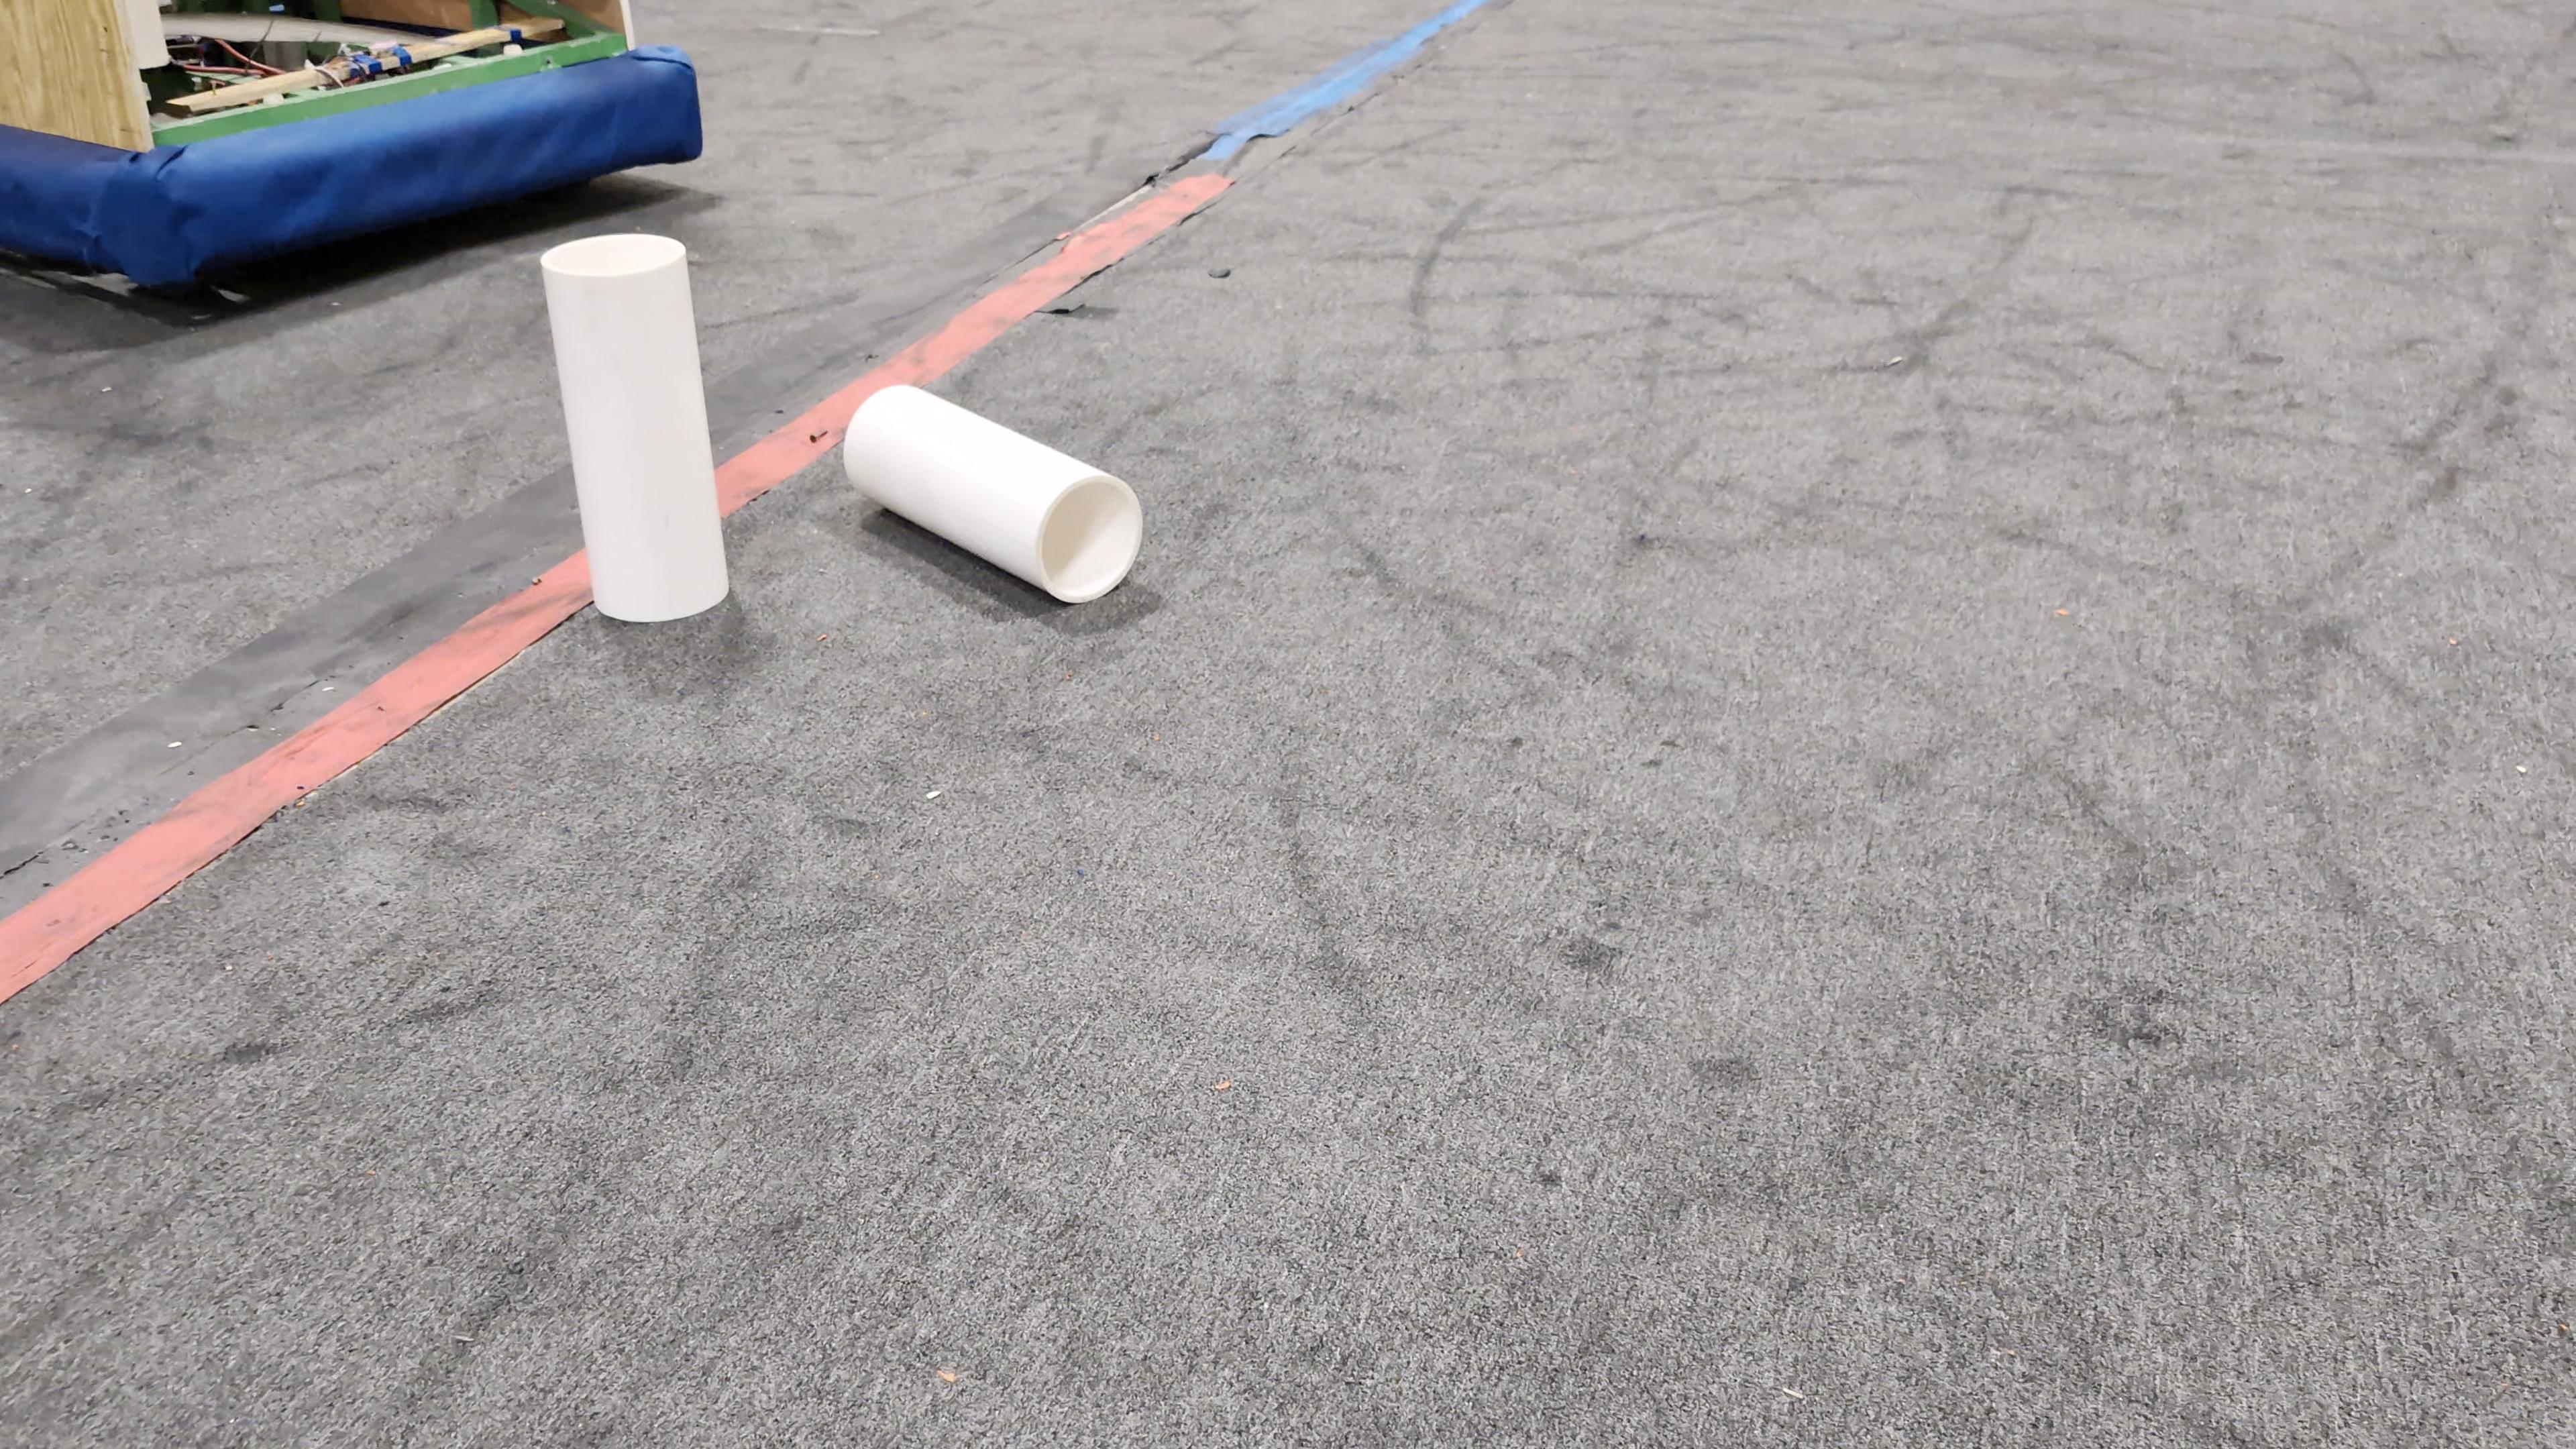coral: (534, 221, 731, 621), (840, 379, 1145, 603)
